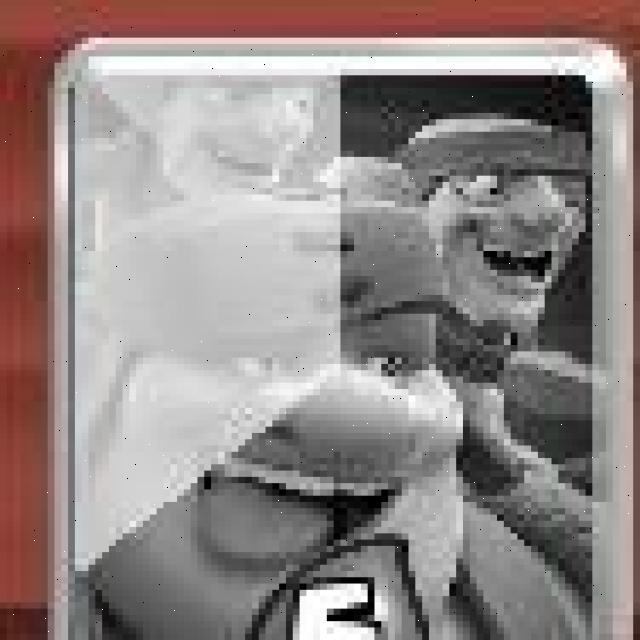Goblin_Giant: (51, 36, 634, 640)
